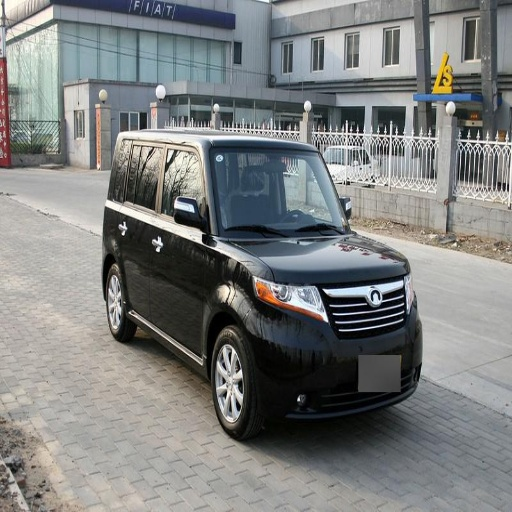front_bumper: (250, 275, 418, 420)
front_right_door: (153, 149, 208, 351)
front_right_light: (249, 265, 325, 320)
